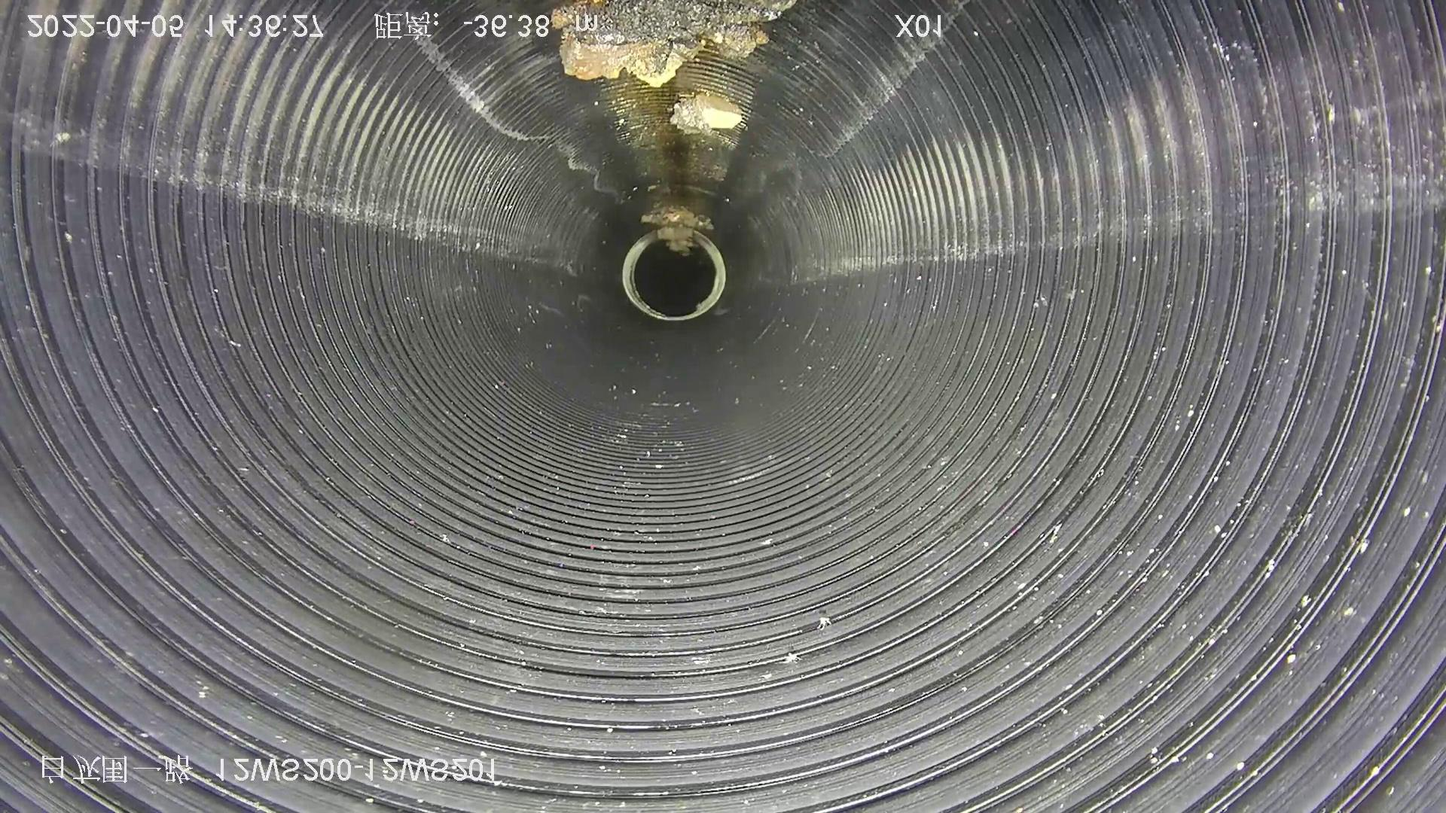CJ: (551, 1, 795, 88), (642, 205, 712, 254), (670, 90, 744, 136)
